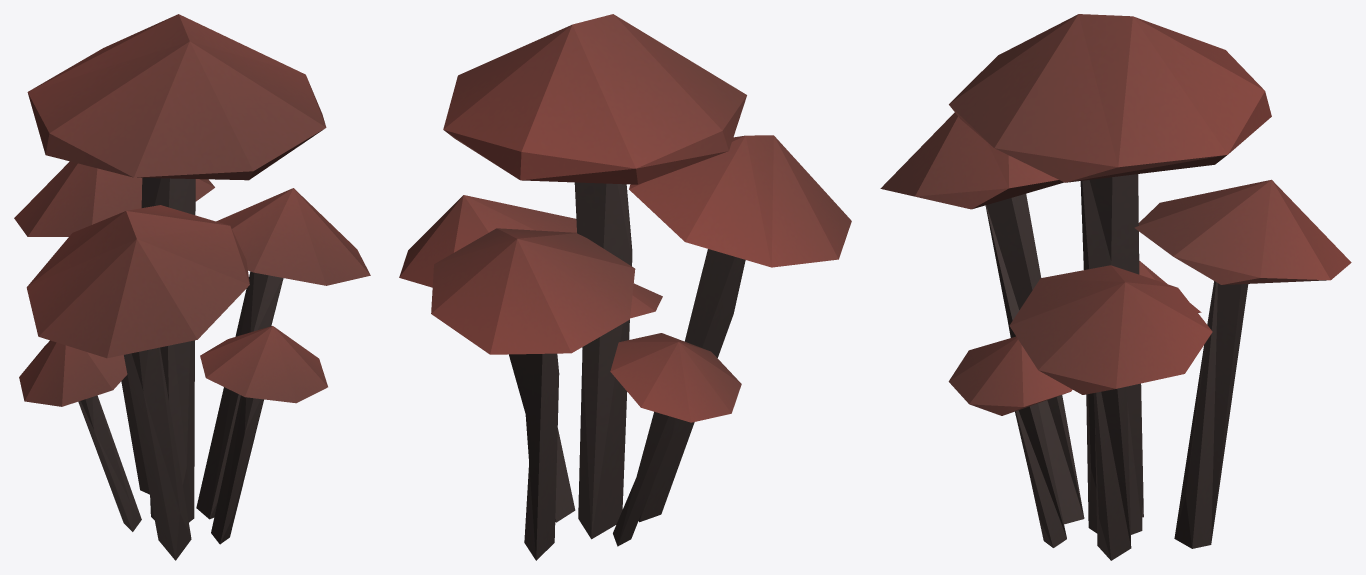
Rendered from Mush_1B_LOD.fbx.
The picture shows the model from 3 angles, left to right: view 1: azimuth 30°, elevation 25°; view 2: azimuth 150°, elevation 25°; view 3: azimuth 270°, elevation 25°; orthographic projection. The views are drawn at different scales.
Visible parts, largest first — view 1: polySurface1312; view 2: polySurface1312; view 3: polySurface1312.
Boxes of the visible parts, bbox=[...] form: polySurface1312: bbox=[14, 14, 370, 560]; polySurface1312: bbox=[399, 14, 851, 560]; polySurface1312: bbox=[880, 14, 1351, 560].
Size of the model in its own units: 2.17 by 2.81 by 2.26.
